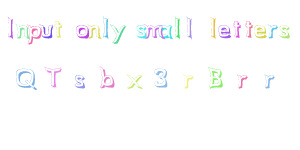3: (151, 63, 168, 87)
B: (204, 62, 223, 91)
I: (4, 14, 19, 45)
Q: (15, 62, 41, 90)
T: (42, 63, 64, 91)
a: (160, 19, 173, 42)
b: (98, 62, 117, 90)
e: (218, 20, 231, 42), (255, 23, 267, 40)
l: (184, 13, 198, 41), (206, 15, 219, 39), (173, 14, 183, 41), (102, 15, 111, 40)
m: (144, 20, 162, 41)
n: (16, 20, 30, 41), (89, 22, 100, 40)
o: (74, 20, 90, 42)
p: (28, 21, 42, 49)
r: (178, 66, 197, 95), (233, 70, 252, 93), (260, 70, 277, 92), (267, 21, 278, 41)
s: (68, 70, 89, 92), (277, 21, 292, 41), (133, 20, 147, 40)
t: (53, 19, 66, 42), (242, 18, 254, 38), (232, 18, 242, 39)
u: (40, 21, 52, 39)
x: (123, 70, 150, 96)
y: (110, 23, 127, 46)
